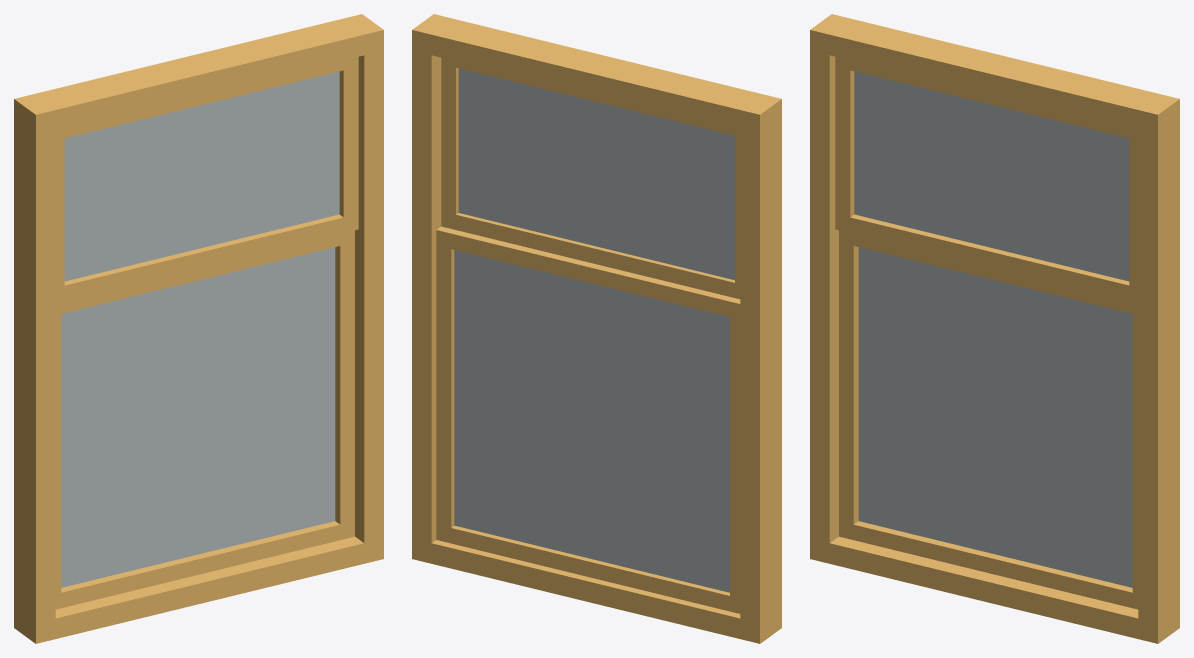
Rendered from window.fbx.
The picture shows the model from 3 angles, left to right: view 1: azimuth 30°, elevation 25°; view 2: azimuth 150°, elevation 25°; view 3: azimuth 330°, elevation 25°; orthographic projection.
Parts seen in each view (by area): view 1: window; view 2: window; view 3: window.
Part boxes in pixels (x1,y1,x2,y2): window: (14, 14, 383, 643); window: (412, 14, 781, 643); window: (810, 14, 1179, 643).
Bounding box in the file's own units: 200 × 291 × 21.66.
